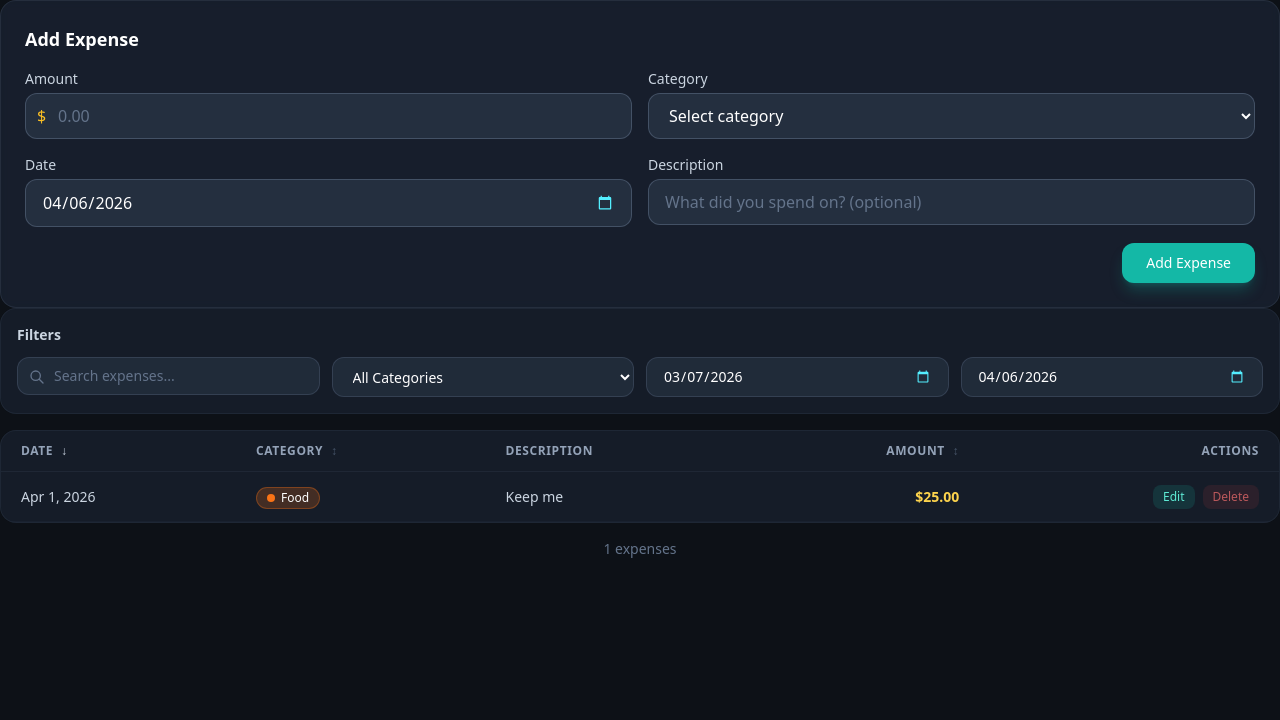
Test: Expenses view › deleting expenses › cancels deletion when cancel is clicked
The width and height of the screenshot is (1280, 720).
Click the button "Delete". click: (1231, 496)
box: x1=1202 y1=484 x2=1259 y2=508
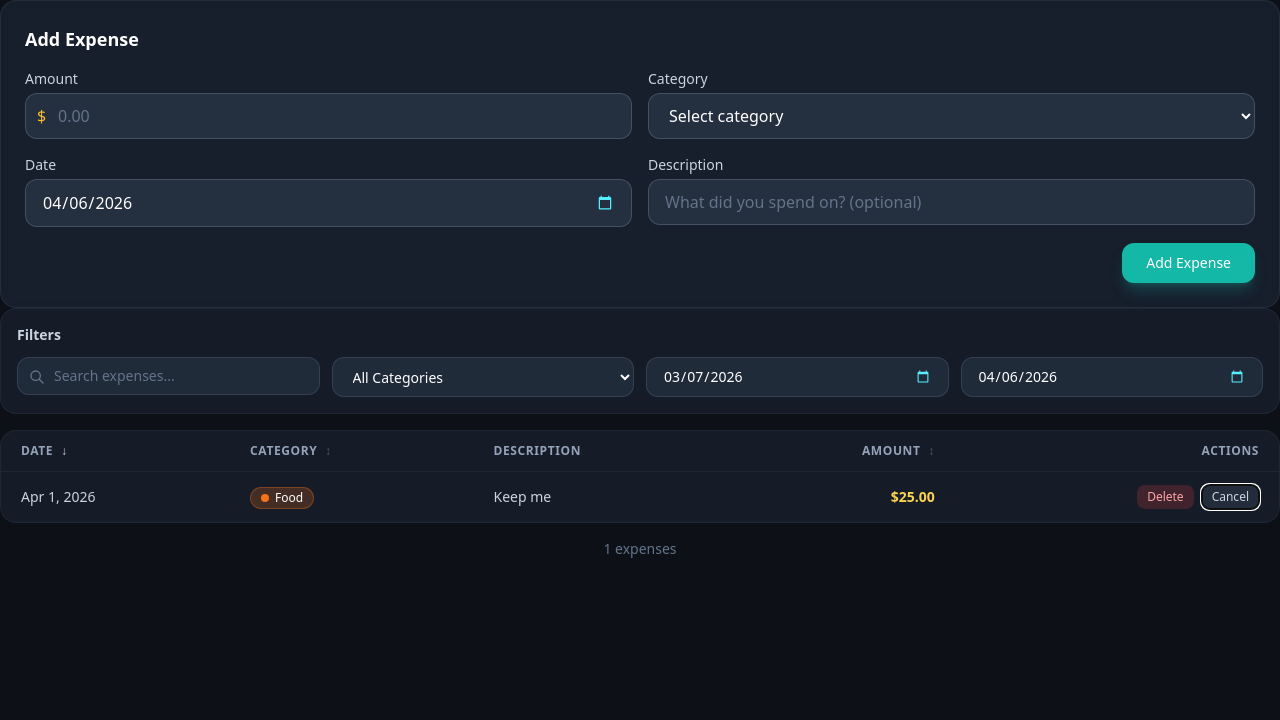
Click the button "Cancel". click: (1230, 496)
box: x1=1202 y1=484 x2=1259 y2=508
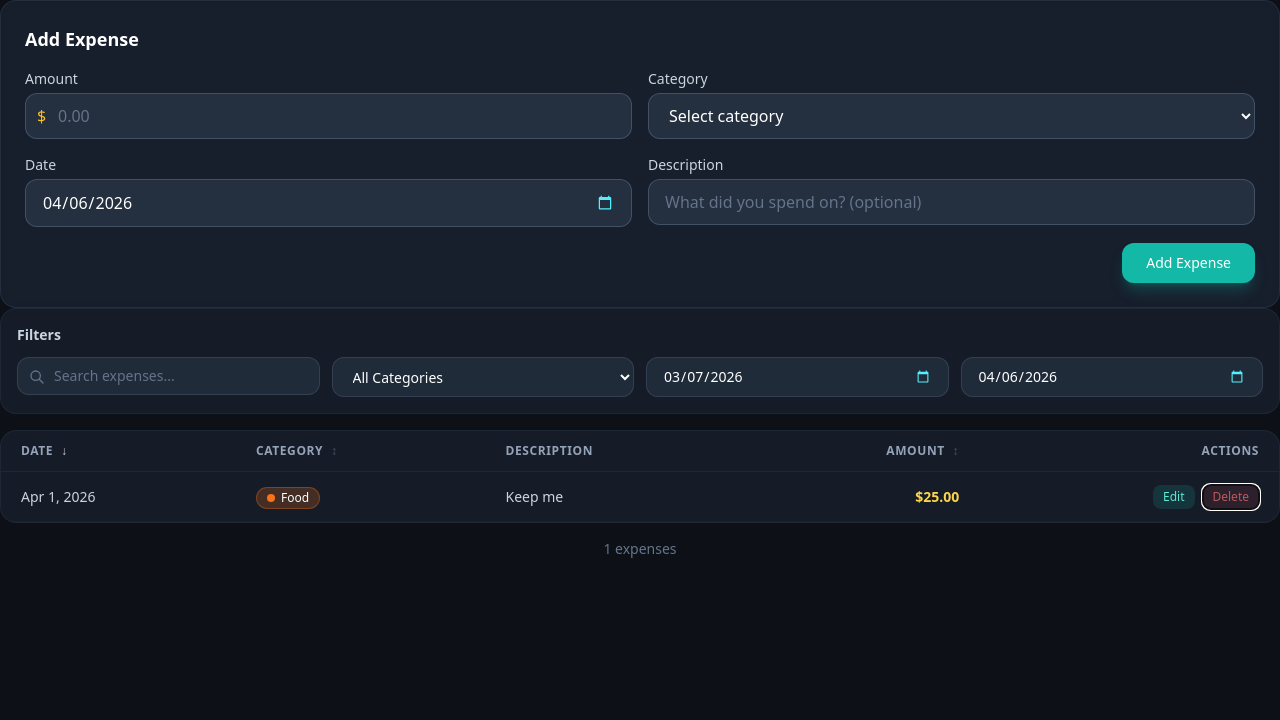
Expected: the text "Keep me" is shown, x1=506 y1=486 x2=563 y2=506
Expected: the button "Edit" is shown, x1=1153 y1=484 x2=1194 y2=508
